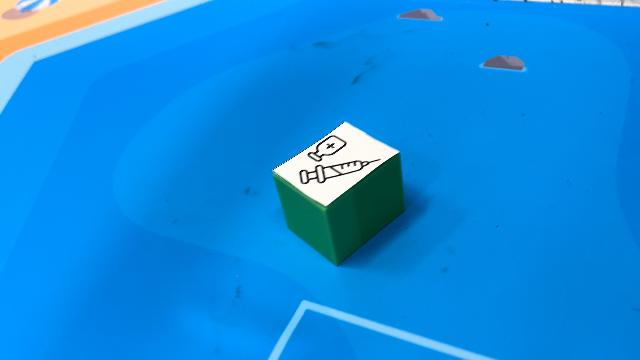syringe: (271, 120, 405, 266)
